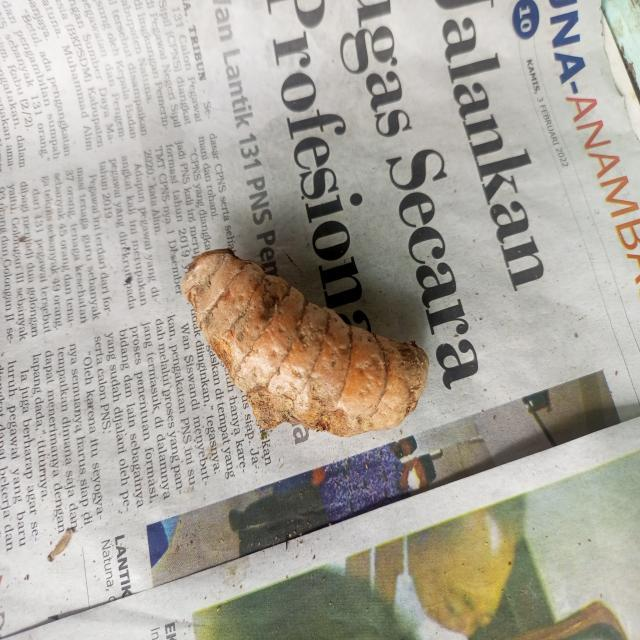ginger: (190, 246, 428, 433)
